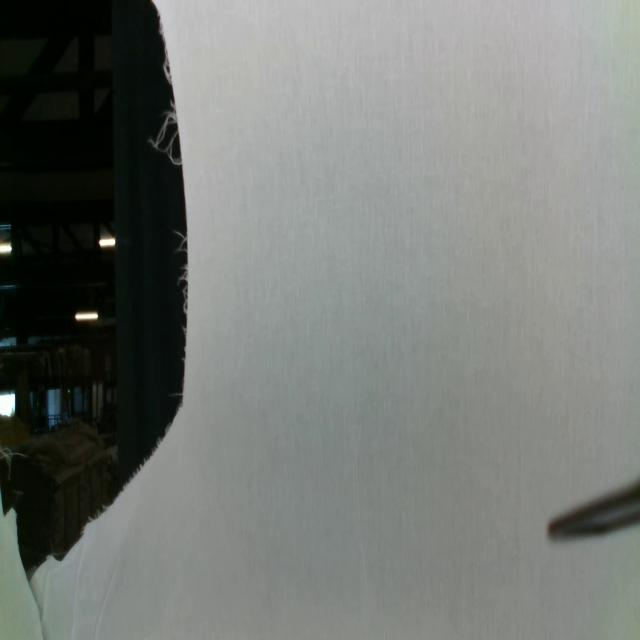hole: (0, 0, 190, 580)
